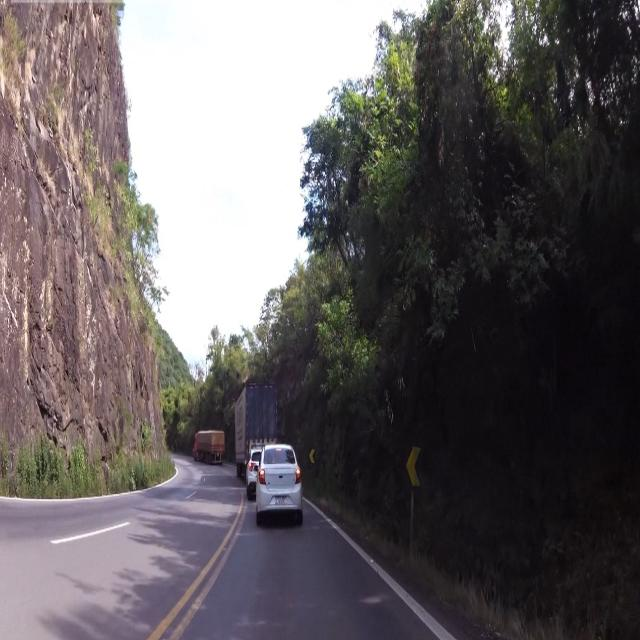Del: (406, 441, 425, 501), (308, 444, 316, 464)
